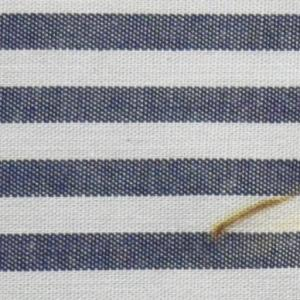Oil Stain: (207, 189, 300, 245)
